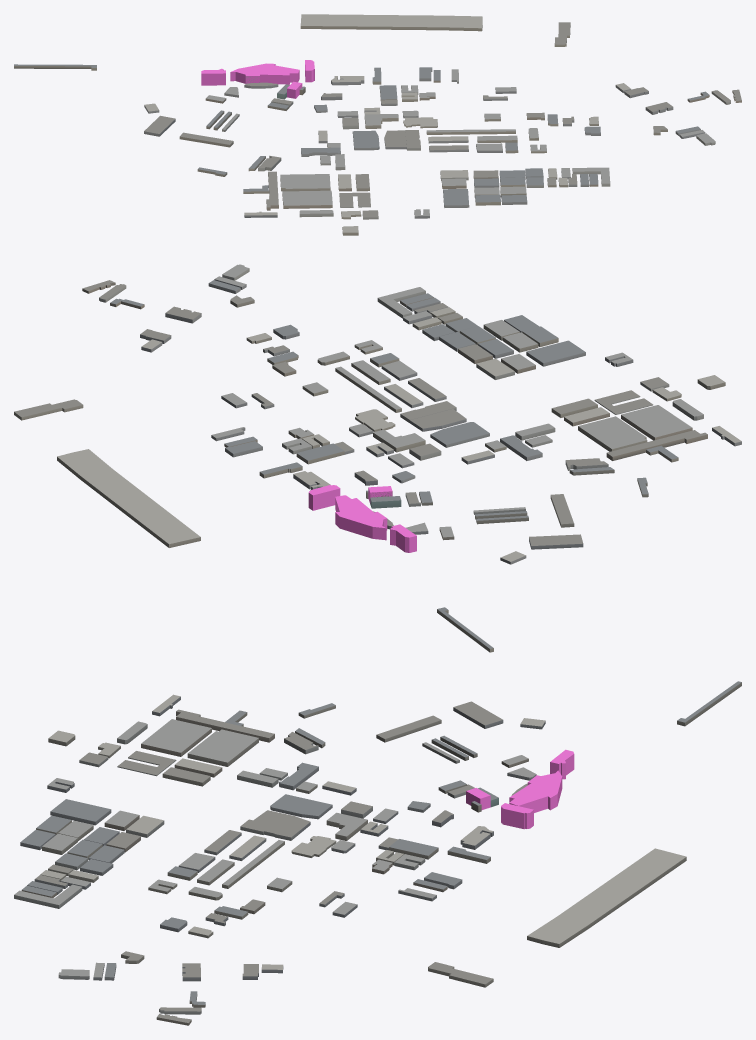
The model's file is bld_17_11.fbx.
3 renders of one model, top to bottom at view 1: azimuth 30°, elevation 25°; view 2: azimuth 150°, elevation 25°; view 3: azimuth 270°, elevation 25°, orthographic. The views are drawn at different scales.
Parts seen in each view (by area): view 1: bld_17_11_LOD0, bld_17_11_COL; view 2: bld_17_11_LOD0, bld_17_11_COL; view 3: bld_17_11_LOD0, bld_17_11_COL.
Part boxes in pixels (x1,y1,x2,y2): bld_17_11_LOD0: (14,14,741,235); bld_17_11_COL: (201,60,314,98); bld_17_11_LOD0: (14,264,741,652); bld_17_11_COL: (308,485,416,552); bld_17_11_LOD0: (14,681,741,1025); bld_17_11_COL: (466,749,574,829).
Size of what is drawn, in the model's own units: 2165 by 47.34 by 1954.
